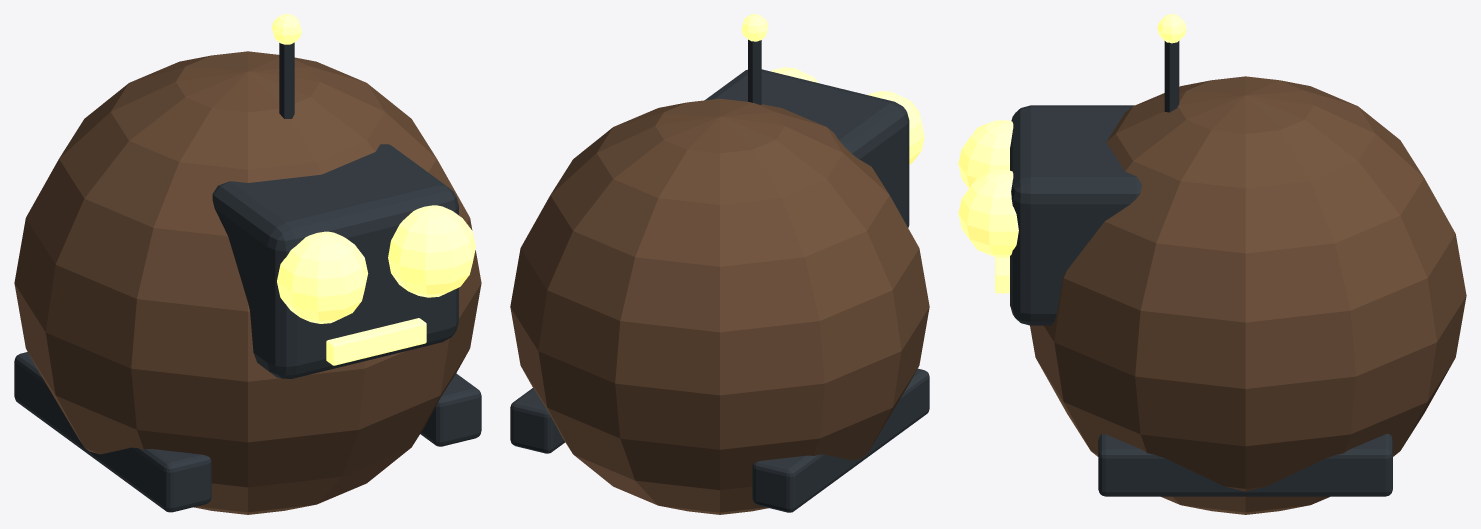
Rendered from enemy_chaser.glb.
3 renders of one model, left to right at view 1: azimuth 30°, elevation 25°; view 2: azimuth 150°, elevation 25°; view 3: azimuth 270°, elevation 25°, orthographic. The views are drawn at different scales.
Parts seen in each view (by area): view 1: enemy_chaser; view 2: enemy_chaser; view 3: enemy_chaser.
Boxes of the visible parts, x1,y1,x2,y2 form: enemy_chaser: (14,14,481,514); enemy_chaser: (510,14,929,514); enemy_chaser: (958,14,1466,514).
Bounding box in the file's own units: 0.6 × 0.72 × 0.69.
